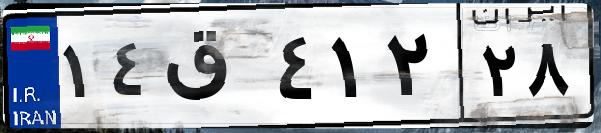1: (330, 28, 385, 110), (57, 26, 110, 100)
2: (385, 28, 445, 110), (475, 38, 525, 113)
4: (270, 28, 330, 110), (110, 28, 158, 98)
8: (525, 38, 570, 115)
ق: (158, 20, 270, 120)
